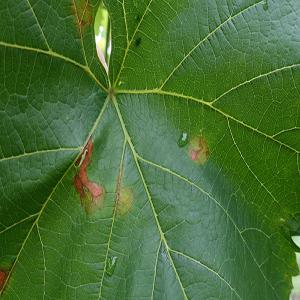Folha: (0, 0, 299, 299)
Fungo: (74, 138, 104, 209), (188, 134, 210, 166), (116, 184, 135, 216), (73, 173, 85, 199), (177, 131, 189, 147), (189, 147, 202, 161)
